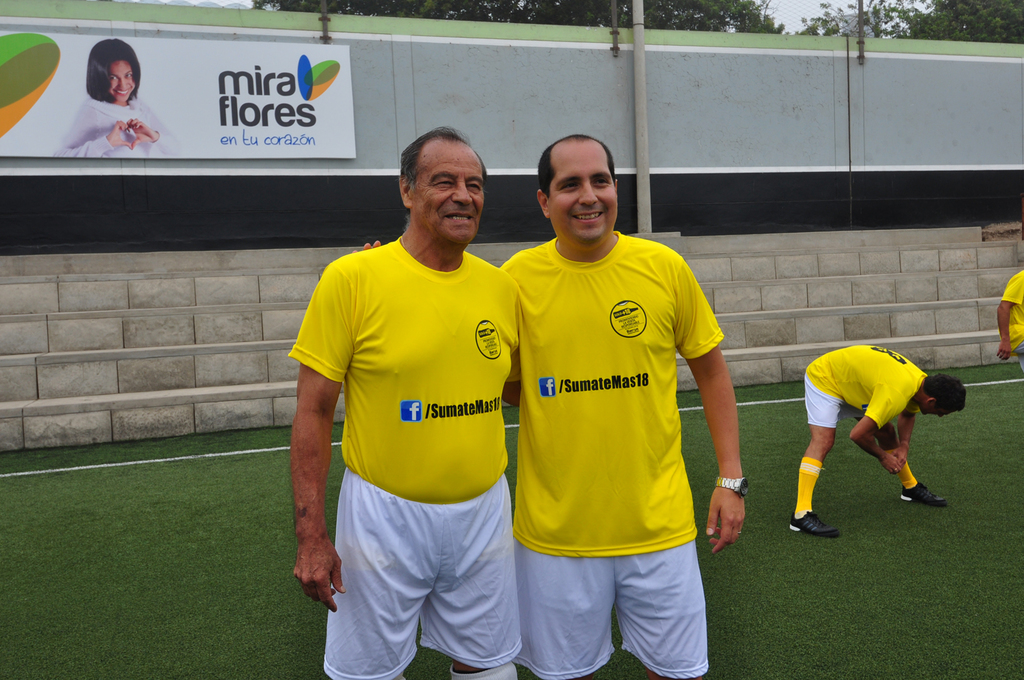Footwear: (797, 491, 863, 558), (901, 479, 947, 506)
